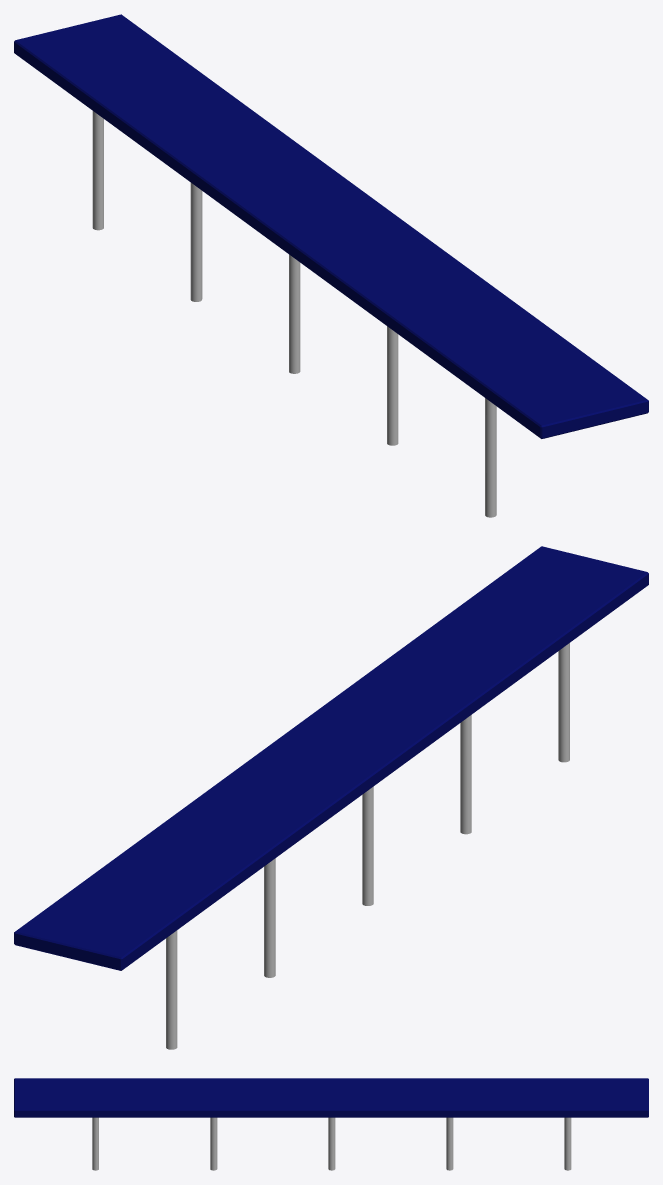
The model's file is Blue table.obj.
3 views of the same model, one above another, from view 1: azimuth 30°, elevation 25°; view 2: azimuth 150°, elevation 25°; view 3: azimuth 270°, elevation 25° (orthographic). The views are drawn at different scales.
Parts seen in each view (by area): view 1: Plane.150_Plane.075, Plane.151_Plane.076; view 2: Plane.150_Plane.075, Plane.151_Plane.076; view 3: Plane.150_Plane.075, Plane.151_Plane.076.
Boxes of the visible parts, left/top/right/bottom form: Plane.150_Plane.075: left=14, top=14, right=648, bottom=438; Plane.151_Plane.076: left=92, top=111, right=496, bottom=517; Plane.150_Plane.075: left=14, top=546, right=648, bottom=970; Plane.151_Plane.076: left=166, top=643, right=569, bottom=1049; Plane.150_Plane.075: left=14, top=1078, right=648, bottom=1117; Plane.151_Plane.076: left=92, top=1117, right=571, bottom=1170.
Size of the model in its own units: 1.26 by 1.59 by 10.62.
